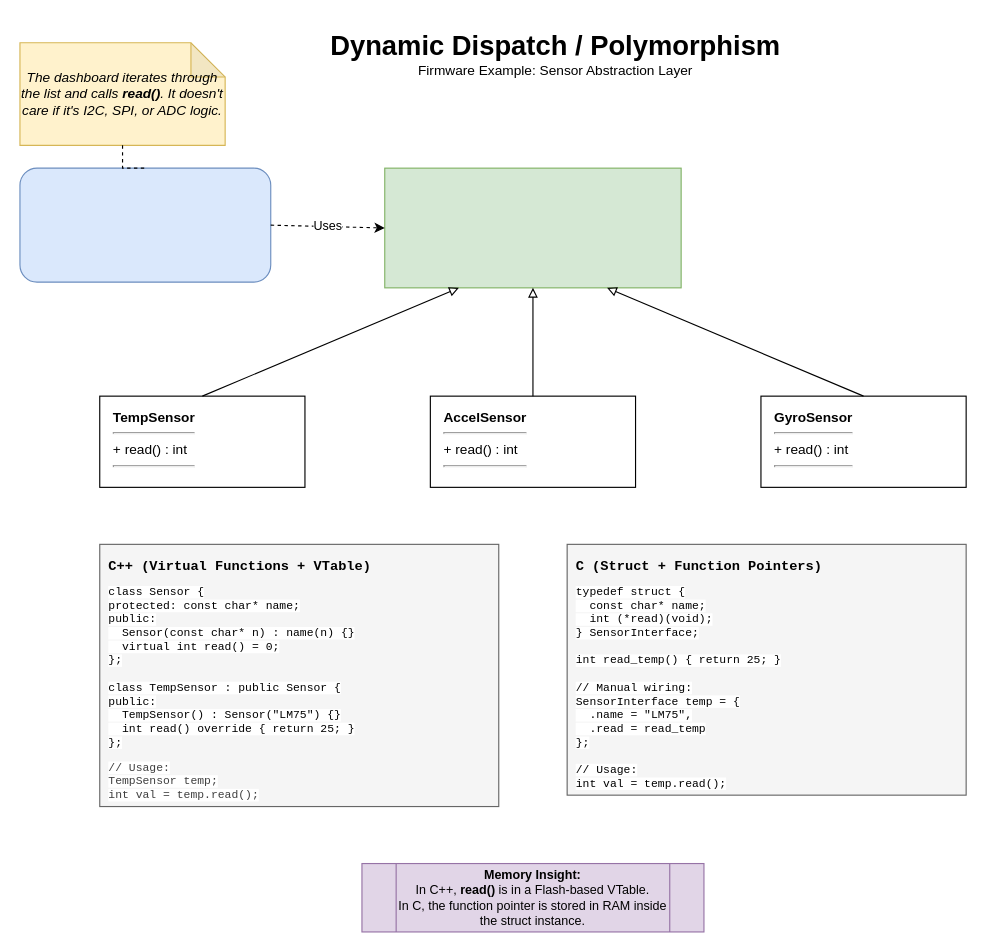
Image size: 986x952. Some labels were removed from this diagram. The shapes that lost their labels are listed below. From the top down, each one's centre as x and y in pixels, then its label:
At (x=145, y=224): "SensorDashboard - sensors : Sensor*[] + updateDisplay()".
At (x=532, y=227): "<<Abstract>> Sensor # name : const char* + read() : int = 0".
